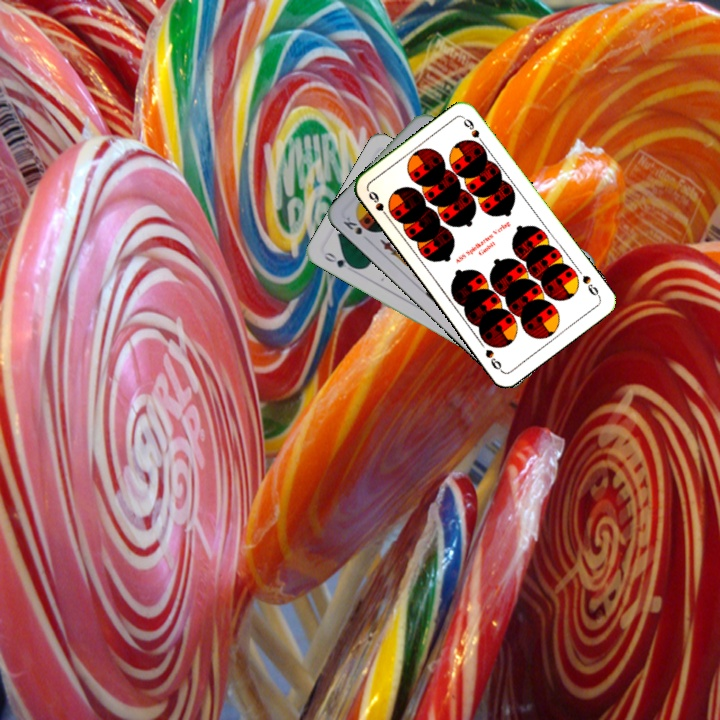GO: (320, 248, 358, 271)
S9: (364, 187, 393, 222), (578, 271, 603, 300)
SK: (339, 213, 373, 245)
